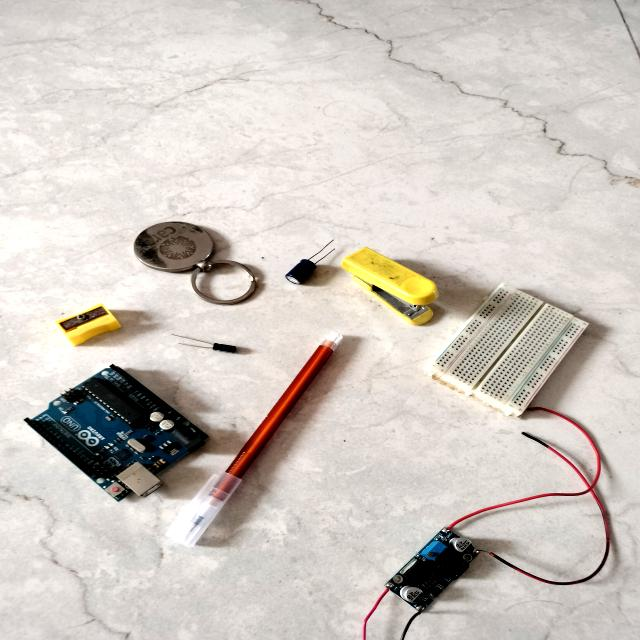capacitor: (286, 259, 328, 286), (213, 343, 249, 354)
